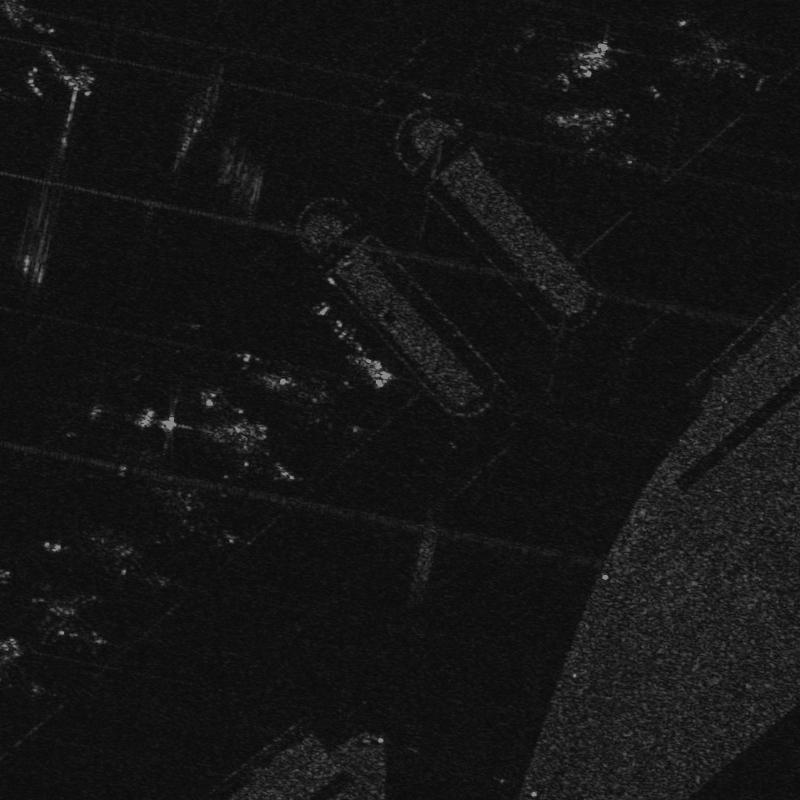Boeing737: (233, 345, 342, 440), (196, 389, 288, 491), (141, 469, 247, 555), (675, 5, 773, 91), (92, 522, 191, 604), (540, 89, 637, 170), (38, 584, 107, 654)
